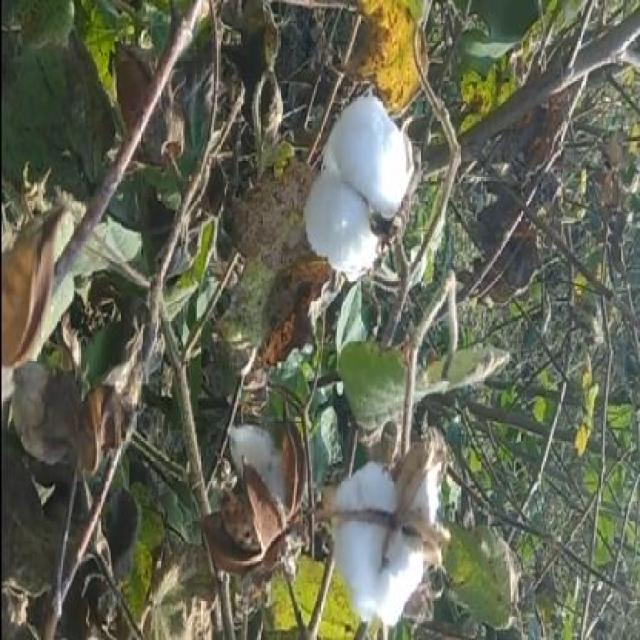cotton_ready: (300, 59, 432, 338), (304, 411, 454, 624)
